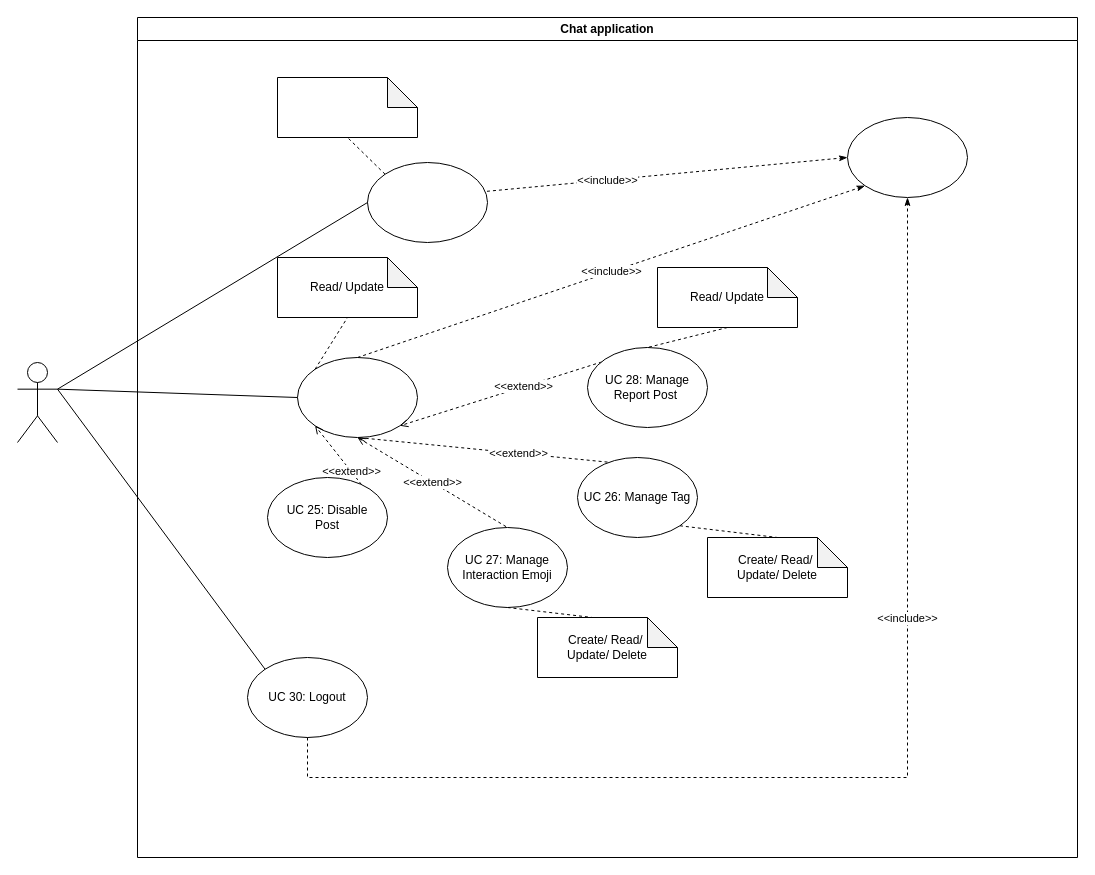
The diagram is 1095 pixels wide and 875 high, and some of its shapes have lost their labels. The shapes that lost their labels are listed below. From the top down, each one's box as (x1, y1, x2, y2) in pixels, then its label:
(276, 76, 418, 138): Read/ Update/ Delete
(846, 116, 968, 198): UC 29: Login
(366, 162, 488, 242): UC 23: Manage User
(16, 362, 58, 442): Admin
(296, 356, 418, 438): UC 24: Manage Post
